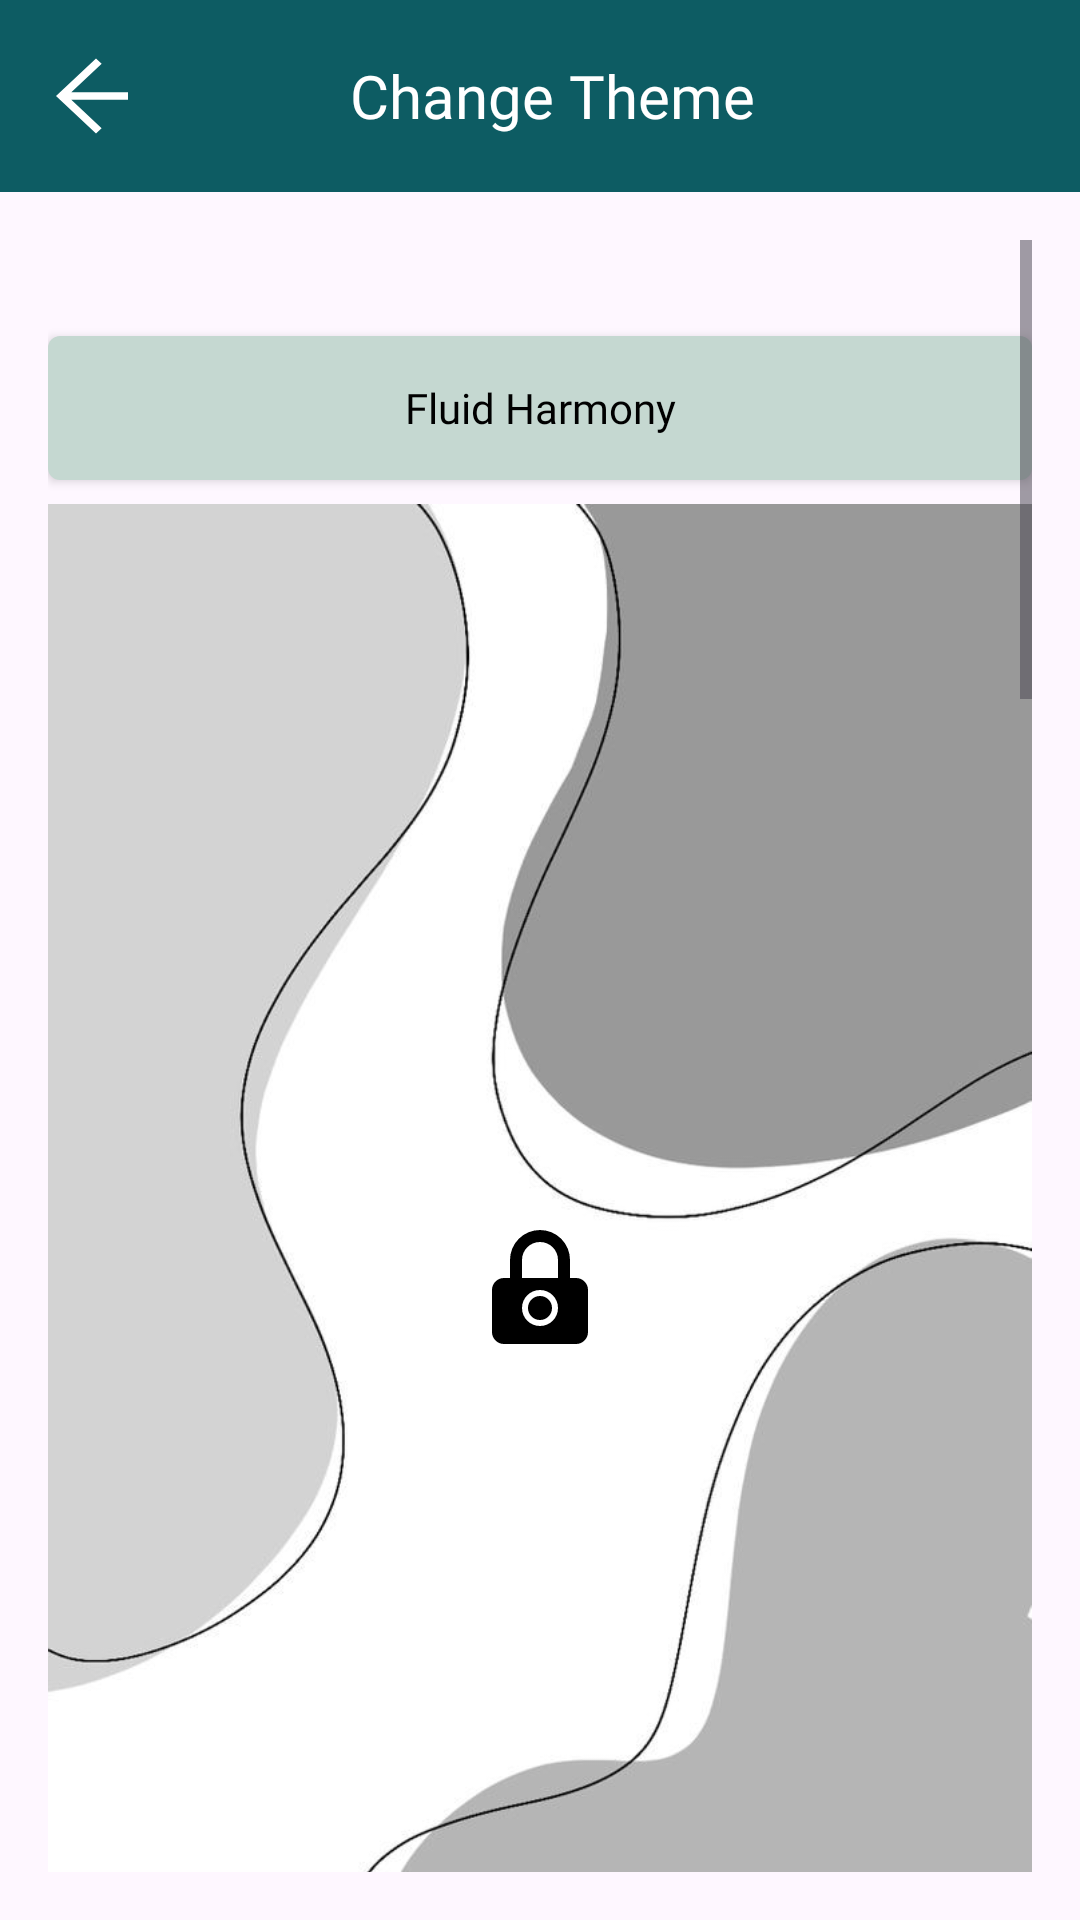

Screen size 1080px×1920px. Icon name, then its center in pixels as [x,y]:
lock: [540,1287]
